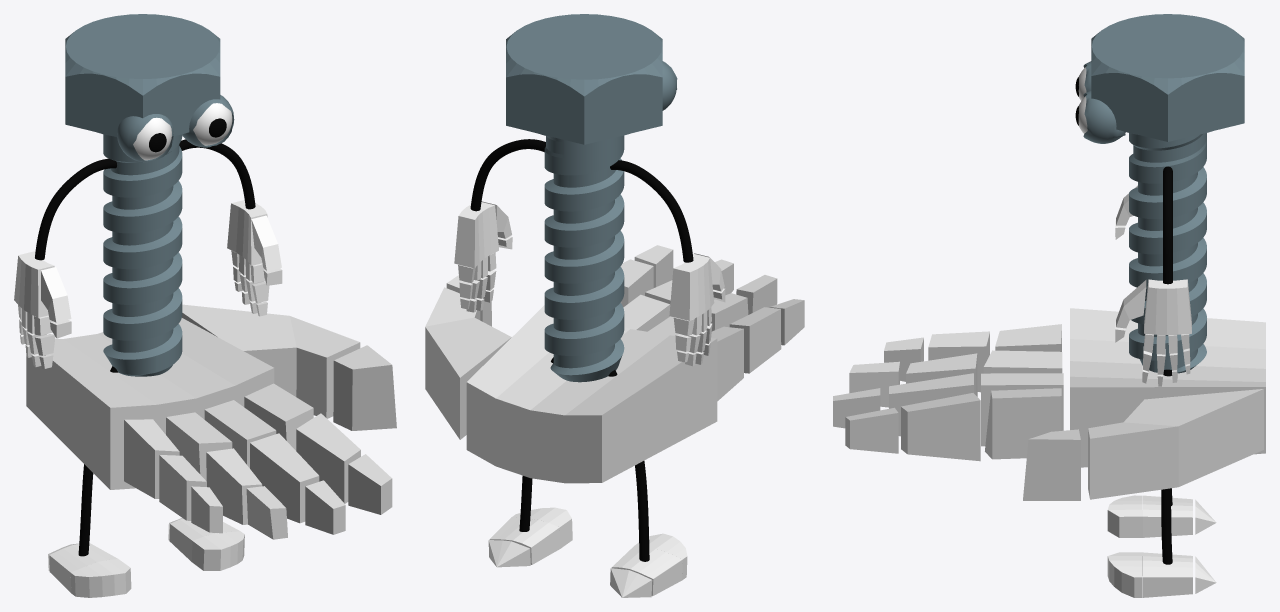
Rendered from Bolt.fbx.
3 renders of one model, left to right at view 1: azimuth 30°, elevation 25°; view 2: azimuth 150°, elevation 25°; view 3: azimuth 270°, elevation 25°, orthographic. The views are drawn at different scales.
Visible parts, largest first — view 1: Куб, Bolt.002, Куб.002, Куб.004, Куб.006, Куб.005, ТраекторияNurbs.001, Sphere.004, ТраекторияNurbs.003, ТраекторияNurbs, Sphere.007, Sphere (+1 smaller); view 2: Куб, Bolt.002, Куб.004, Куб.002, Куб.005, Куб.006, ТраекторияNurbs.001, ТраекторияNurbs, ТраекторияNurbs.003, ТраекторияNurbs.002, Sphere.004; view 3: Куб, Bolt.002, Куб.004, Куб.005, Куб.006, Sphere.009, ТраекторияNurbs, ТраекторияNurbs.002.
Boxes of the visible parts, x1,y1,x2,y2 form: Куб: (26,304,396,539); Bolt.002: (65,14,220,376); Куб.002: (14,251,71,368); Куб.004: (227,200,282,316); Куб.006: (48,543,131,597); Куб.005: (168,518,244,570); ТраекторияNurbs.001: (35,158,116,260); Sphere.004: (117,114,173,162); ТраекторияNurbs.003: (78,366,117,556); ТраекторияNurbs: (179,139,255,209); Sphere.007: (193,103,232,145); Sphere: (133,117,171,160); Куб: (425,245,804,483); Bolt.002: (506,14,662,382); Куб.004: (454,201,512,312); Куб.002: (669,253,725,366); Куб.005: (488,507,572,567); Куб.006: (610,533,687,597); ТраекторияNurbs.001: (610,160,693,262); ТраекторияNurbs: (470,139,545,211); ТраекторияNurbs.003: (608,370,649,561); ТраекторияNurbs.002: (519,357,553,531); Sphere.004: (662,61,677,110); Куб: (833,308,1265,500); Bolt.002: (1091,14,1244,373); Куб.004: (1115,279,1191,386); Куб.005: (1107,552,1216,597); Куб.006: (1107,495,1216,537); Sphere.009: (1083,90,1125,143); ТраекторияNurbs: (1163,166,1172,284); ТраекторияNurbs.002: (1161,369,1172,564).
Size of the model in its own units: 764 by 1258 by 965.
